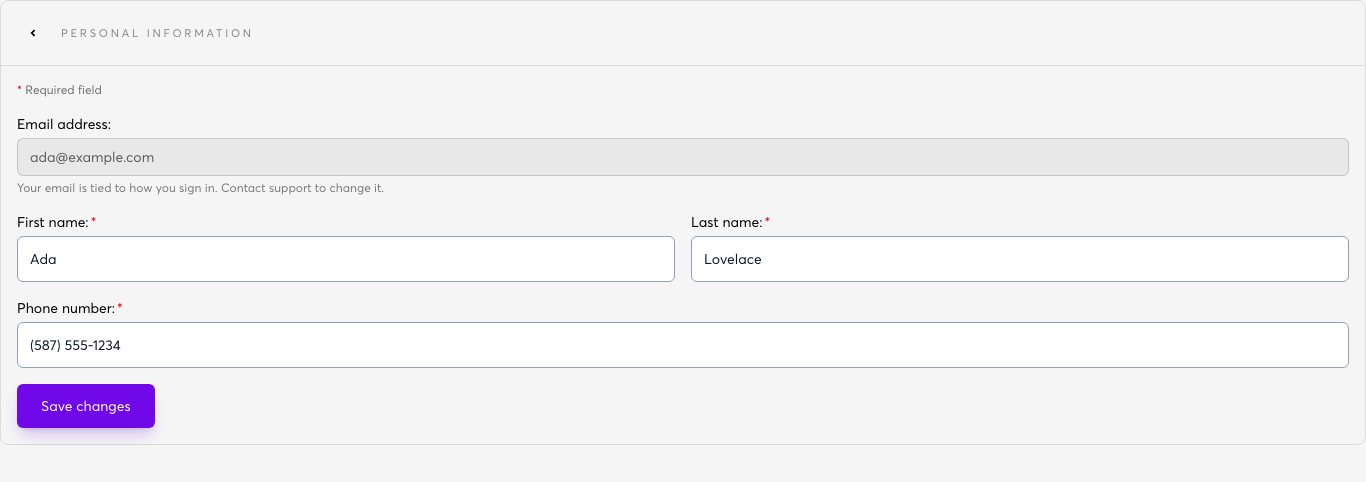
Test: blocks First name: Ad4 before any request
Replace the text in the field labelled "First name:" with "Ad4" at (346,259), box [17,236,675,282]
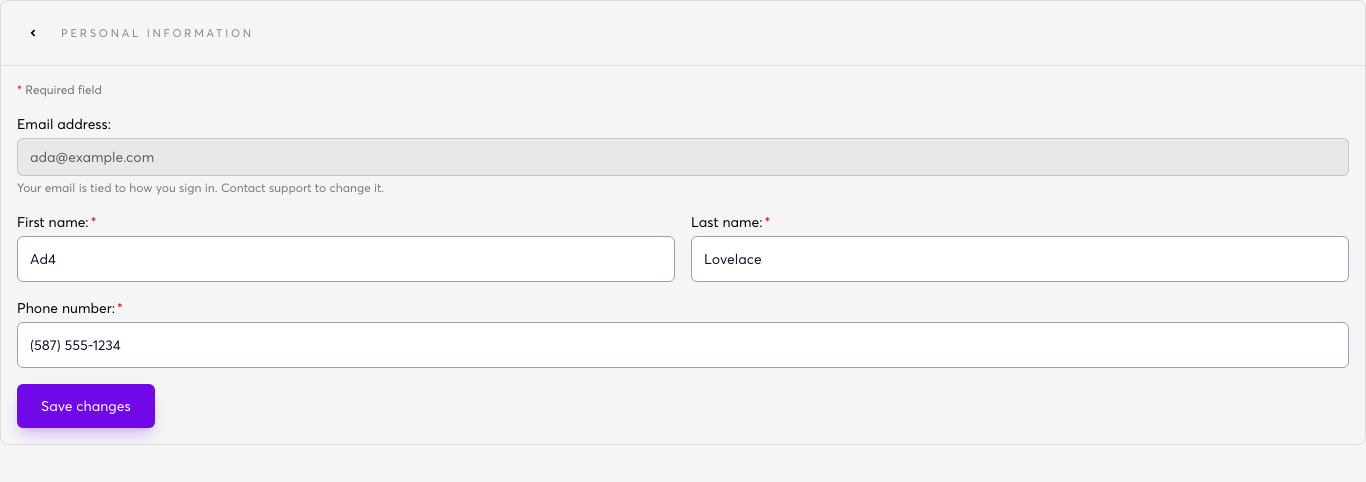
Click the button "Save changes" at (86,406), box [17,384,155,428]
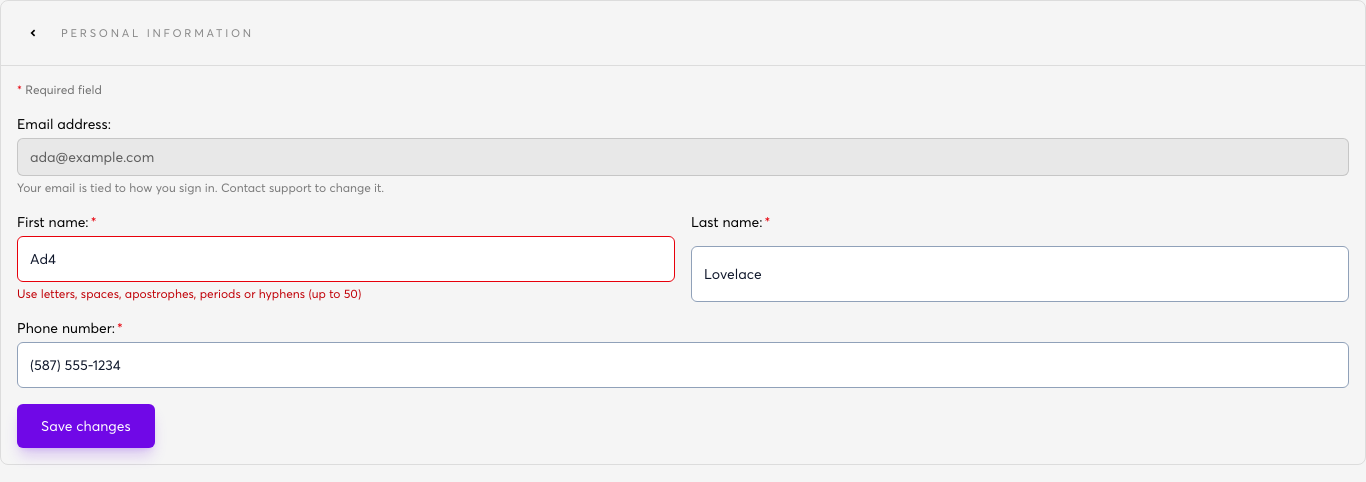
Now the text "Use letters, spaces, apostrophes, periods or hyphens (up to 50)" is shown, box [17,286,361,301]
